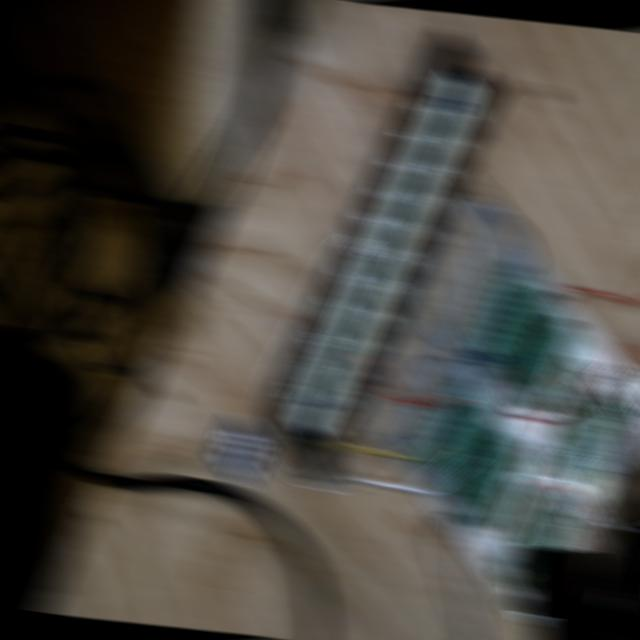Phillips_Block: (252, 28, 518, 479)
Terminal_1: (505, 493, 581, 593), (554, 389, 623, 487)
Terminal_2: (461, 438, 533, 533), (493, 288, 565, 383), (439, 408, 510, 504), (417, 379, 488, 473), (514, 318, 584, 411)
